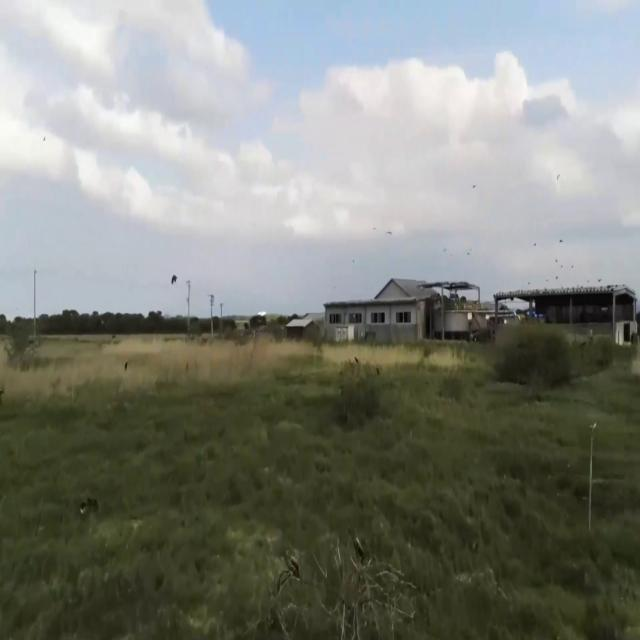bird: (170, 266, 178, 290)
